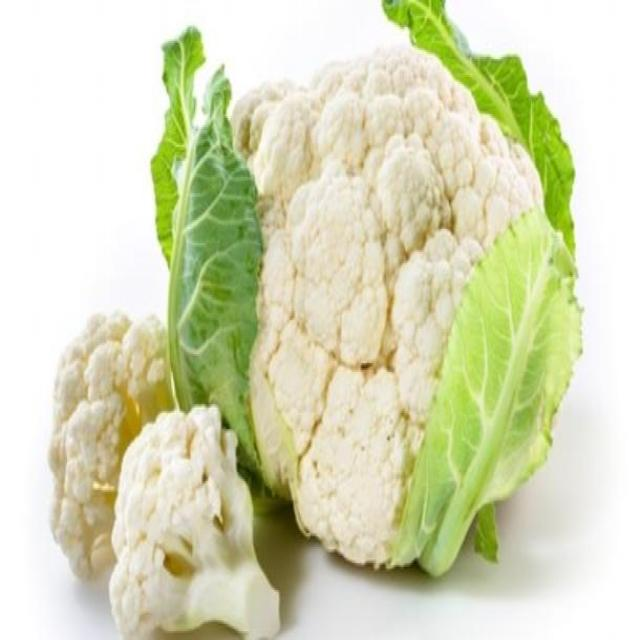cauliflower: (209, 43, 592, 514), (134, 398, 280, 638), (44, 273, 131, 521)
